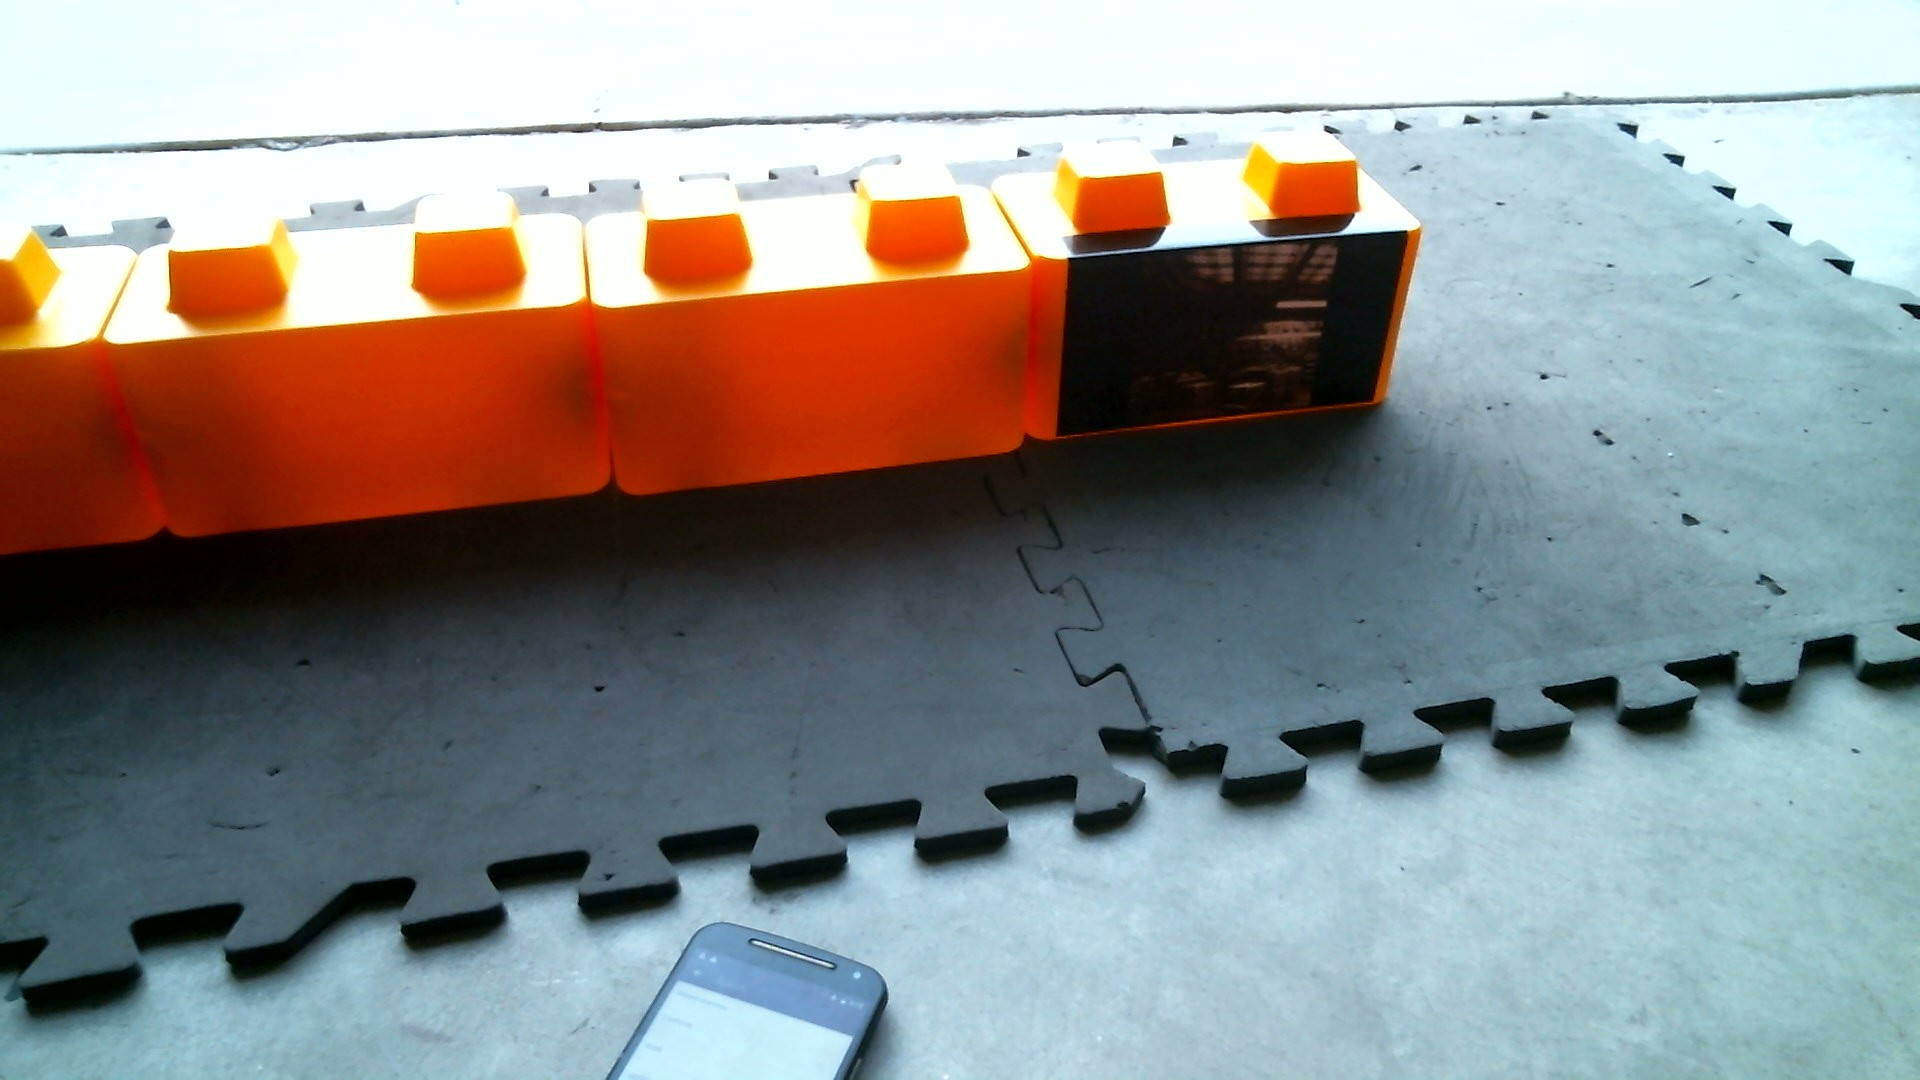right: (107, 125, 1423, 543)
